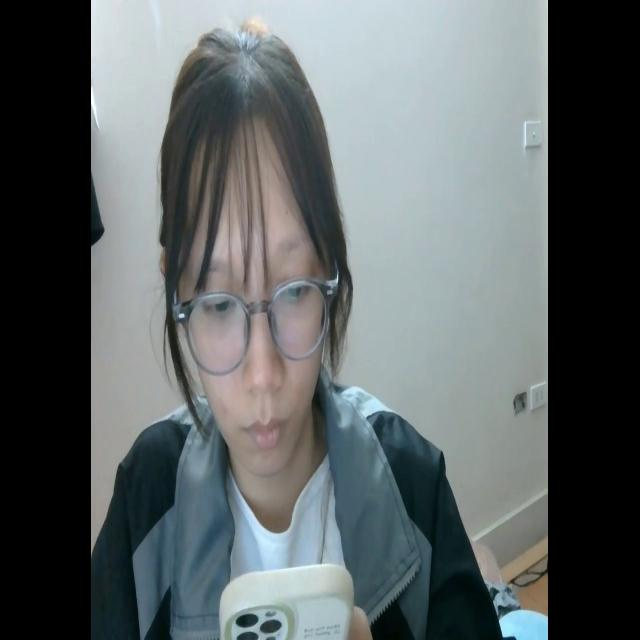phone: (216, 557, 354, 640)
student: (93, 26, 502, 640)
